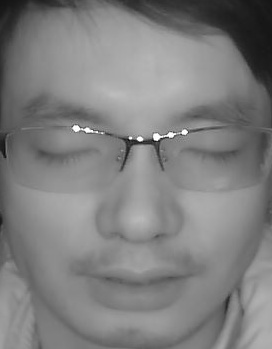blink: (176, 139, 237, 166), (36, 140, 96, 164)
glass: (156, 125, 272, 193), (6, 127, 128, 191)
mouth: (73, 253, 185, 312)
